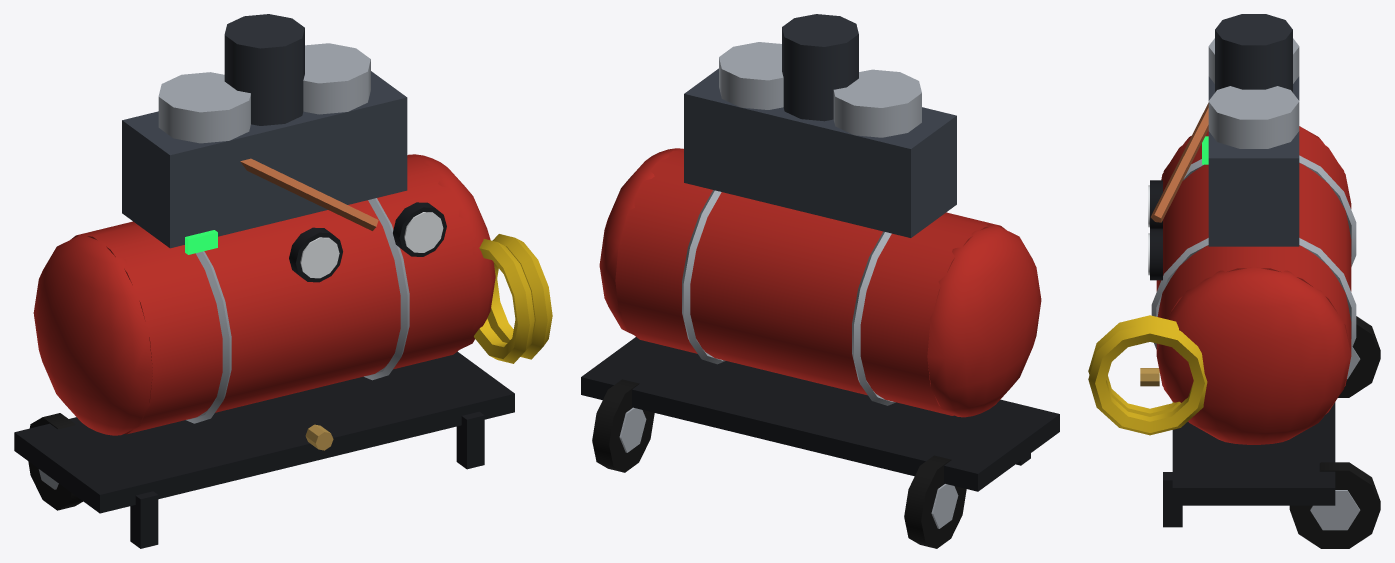
The model's file is hangartool_air_compressor.glb.
3 views of the same model, side by side, from view 1: azimuth 30°, elevation 25°; view 2: azimuth 150°, elevation 25°; view 3: azimuth 270°, elevation 25° (orthographic). The views are drawn at different scales.
Parts seen in each view (by area): view 1: hangartool_air_compressor; view 2: hangartool_air_compressor; view 3: hangartool_air_compressor.
Part boxes in pixels (<box>): hangartool_air_compressor: <box>14,14,552,548</box>; hangartool_air_compressor: <box>581,14,1059,548</box>; hangartool_air_compressor: <box>1088,14,1380,548</box>.
Size of the model in its own units: 1.4 by 1.49 by 0.9.
